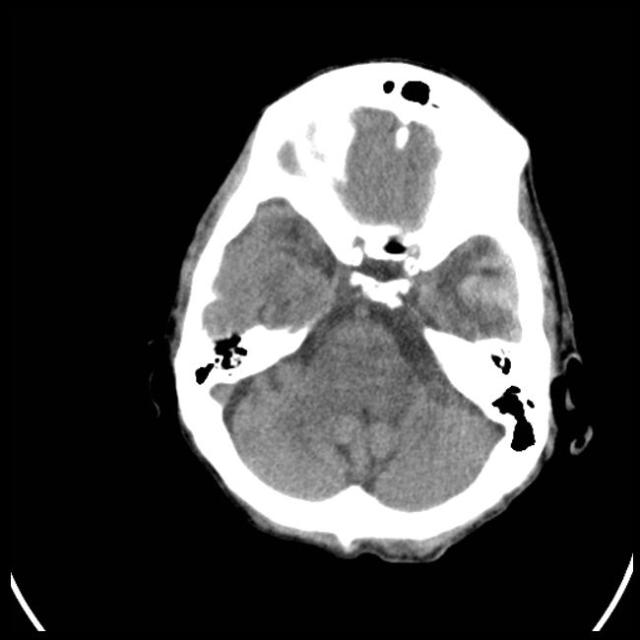lesion: (162, 56, 594, 565)
